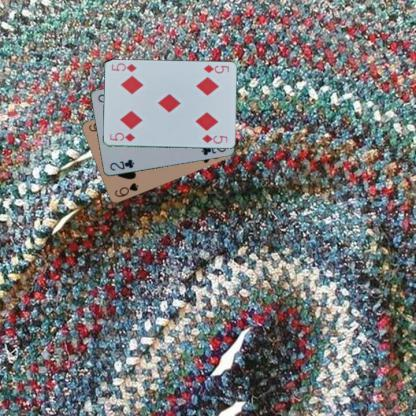2c: (107, 157, 135, 172)
5d: (107, 130, 136, 143), (201, 62, 229, 74)
6s: (112, 180, 139, 198)
